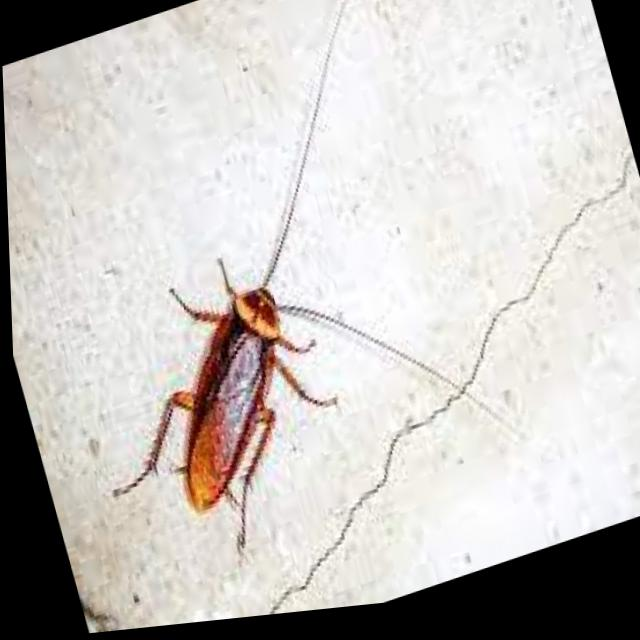Cockroach: (0, 0, 535, 609)
